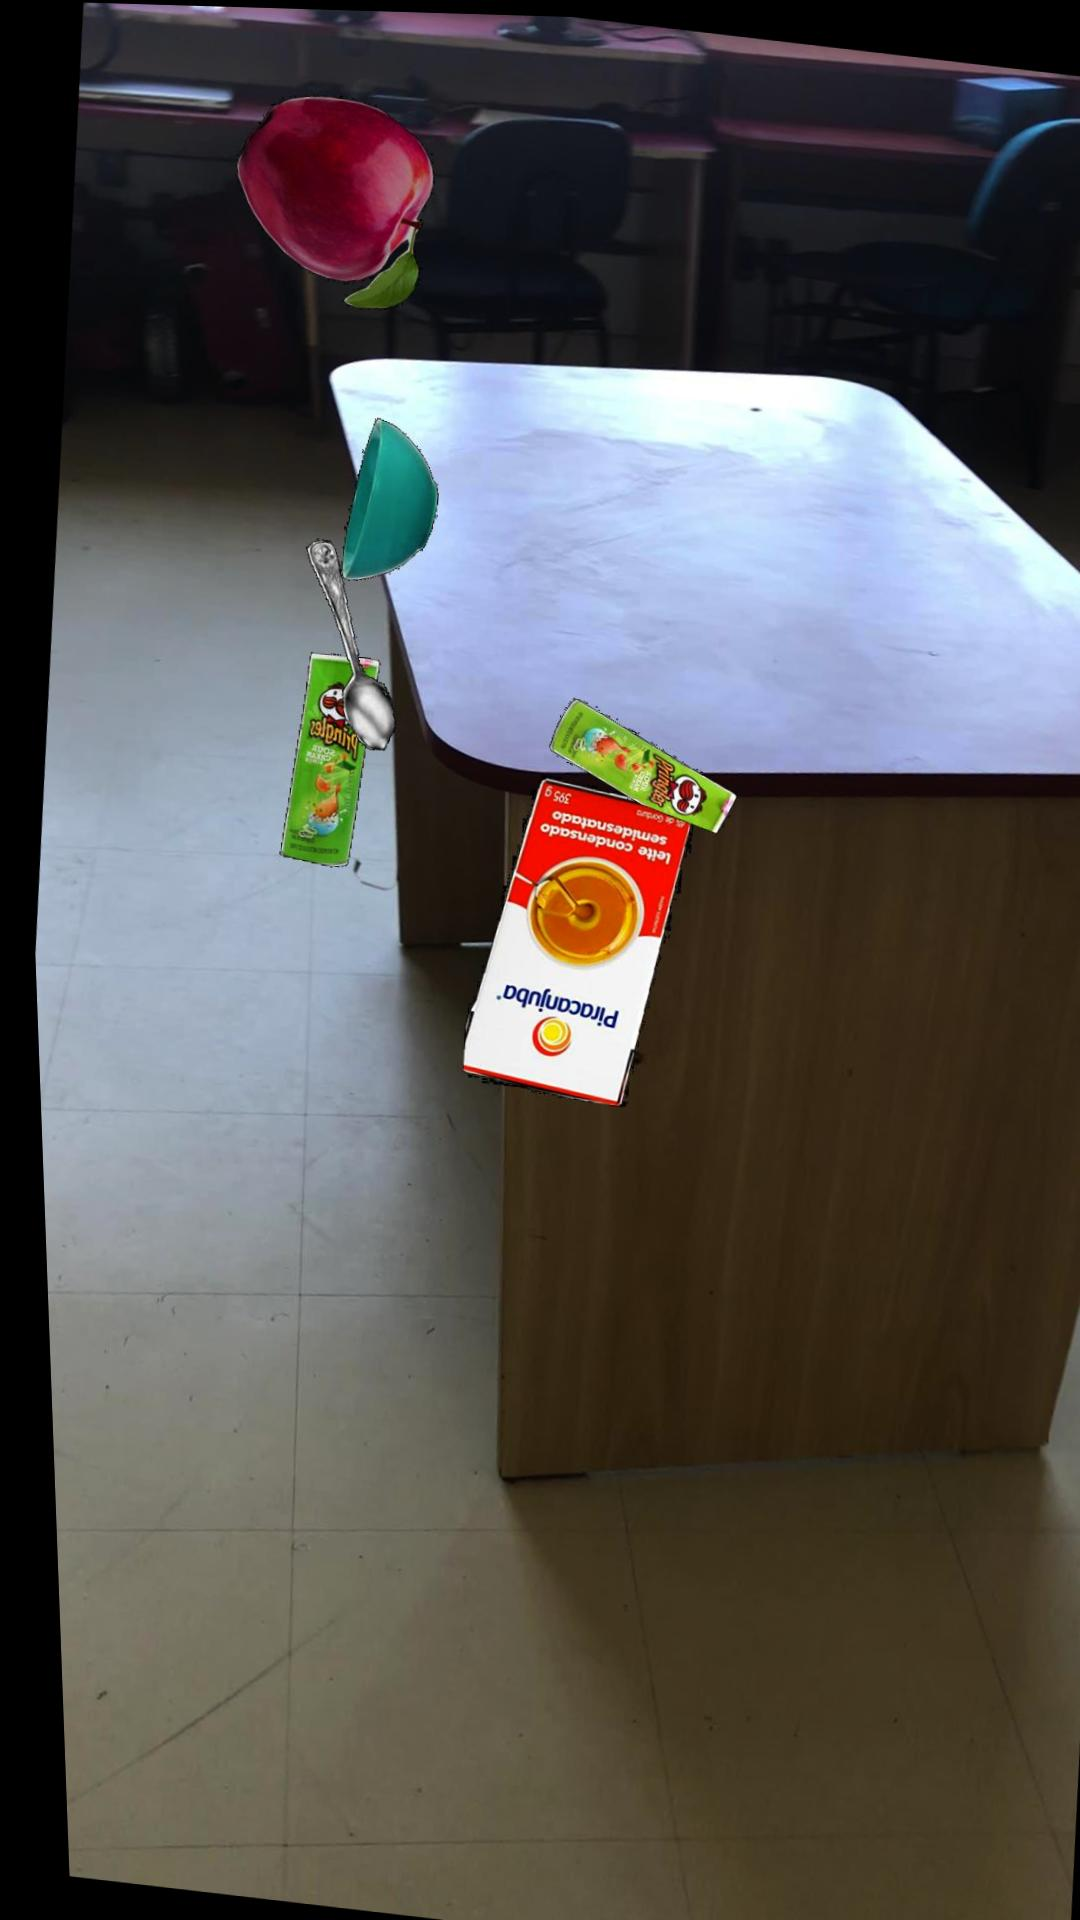apple: (232, 90, 431, 305)
bowl: (332, 413, 433, 576)
pringles: (541, 692, 728, 827), (270, 647, 373, 862)
spoon: (299, 535, 388, 745)
